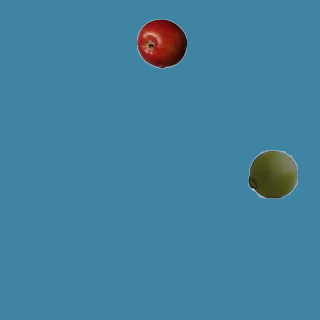Apple Braeburn: (136, 18, 186, 68)
Grape White 4: (247, 148, 297, 198)
